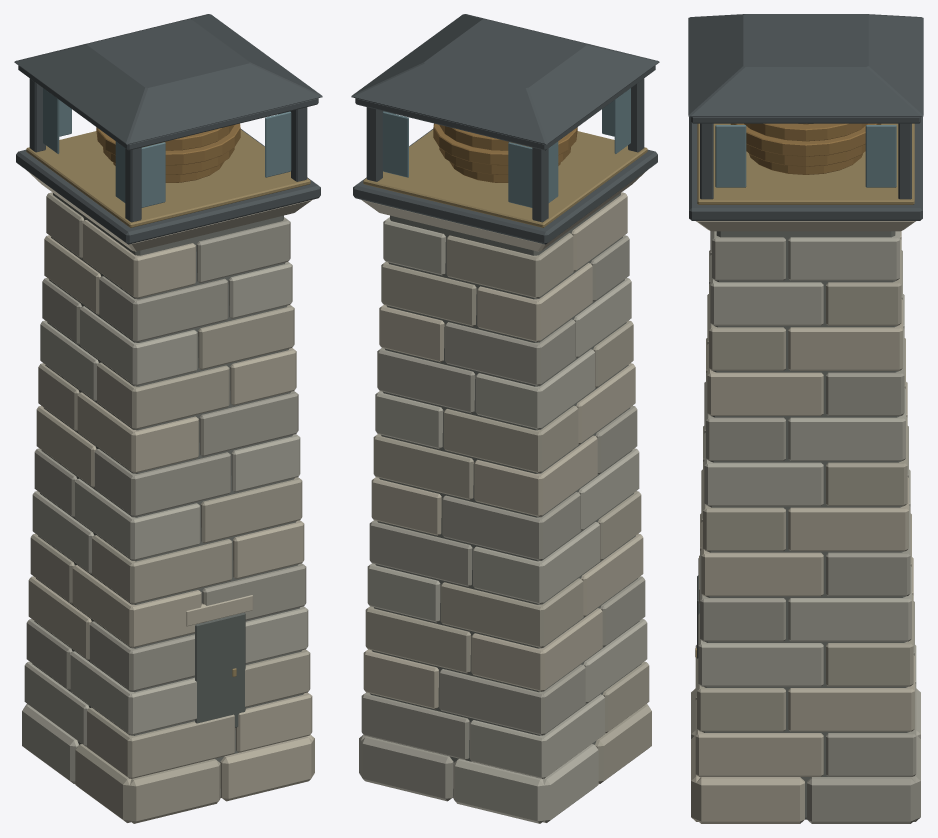
File: lighthouse.glb
3 renders of one model, left to right at view 1: azimuth 30°, elevation 25°; view 2: azimuth 150°, elevation 25°; view 3: azimuth 270°, elevation 25°, orthographic. The views are drawn at different scales.
Visible parts, largest first — view 1: TowerArt, LensArt; view 2: TowerArt, LensArt; view 3: TowerArt, LensArt.
Part boxes in pixels (x1,y1,x2,y2): TowerArt: [14, 14, 322, 823]; LensArt: [96, 123, 240, 182]; TowerArt: [351, 14, 659, 823]; LensArt: [433, 123, 577, 182]; TowerArt: [688, 14, 923, 823]; LensArt: [730, 123, 881, 174].
Size of the model in its own units: 1.13 by 3.9 by 1.13.
